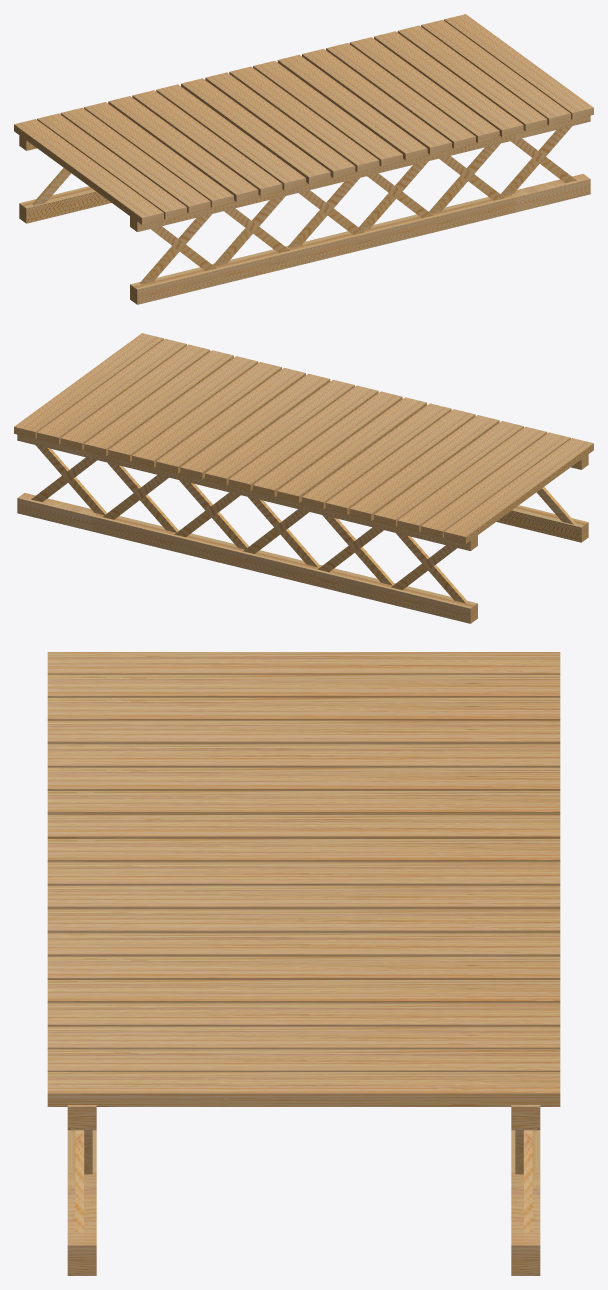
File: Platform_1.fbx
3 views of the same model, one above another, from view 1: azimuth 30°, elevation 25°; view 2: azimuth 150°, elevation 25°; view 3: azimuth 270°, elevation 25° (orthographic). The views are drawn at different scales.
Parts seen in each view (by area): view 1: Cube.032, Cube.031, Cube.022, Cube.030, Cube.017, Cube.023, Cube.024, Cube.016, Cube.026, Cube.021, Cube.014, Cube.018 (+21 smaller); view 2: Cube.032, Cube.031, Cube.022, Cube.030, Cube.017, Cube.023, Cube.024, Cube.016, Cube.026, Cube.021, Cube.014, Cube.018 (+21 smaller); view 3: Cube.012, Cube.017, Cube.020, Cube.025, Cube.014, Cube.016, Cube.021, Cube.022, Cube.024, Cube.027, Cube.018, Cube.019 (+11 smaller).
Part boxes in pixels (bbox=[...]): Cube.032: bbox=[19, 174, 590, 304]; Cube.031: bbox=[14, 119, 163, 224]; Cube.022: bbox=[181, 78, 330, 184]; Cube.030: bbox=[19, 115, 590, 231]; Cube.017: bbox=[277, 54, 427, 160]; Cube.023: bbox=[205, 72, 355, 178]; Cube.024: bbox=[108, 96, 258, 201]; Cube.016: bbox=[302, 48, 451, 154]; Cube.026: bbox=[132, 90, 282, 195]; Cube.021: bbox=[229, 66, 379, 172]; Cube.014: bbox=[374, 31, 523, 136]; Cube.018: bbox=[326, 43, 475, 148]; Cube.032: bbox=[17, 493, 588, 623]; Cube.031: bbox=[444, 438, 593, 543]; Cube.022: bbox=[277, 397, 426, 503]; Cube.030: bbox=[17, 434, 588, 550]; Cube.017: bbox=[180, 373, 330, 479]; Cube.023: bbox=[252, 391, 402, 497]; Cube.024: bbox=[349, 415, 499, 520]; Cube.016: bbox=[156, 367, 305, 473]; Cube.026: bbox=[325, 409, 475, 514]; Cube.021: bbox=[228, 385, 378, 491]; Cube.014: bbox=[84, 350, 233, 455]; Cube.018: bbox=[132, 362, 281, 467]; Cube.012: bbox=[47, 1072, 560, 1106]; Cube.017: bbox=[47, 909, 560, 933]; Cube.020: bbox=[47, 885, 560, 909]; Cube.025: bbox=[47, 720, 560, 744]; Cube.014: bbox=[47, 1003, 560, 1026]; Cube.016: bbox=[47, 933, 560, 956]; Cube.021: bbox=[47, 862, 560, 885]; Cube.022: bbox=[47, 815, 560, 838]; Cube.024: bbox=[47, 744, 560, 767]; Cube.027: bbox=[47, 791, 560, 814]; Cube.018: bbox=[47, 956, 560, 979]; Cube.019: bbox=[47, 980, 560, 1003].
Size of the model in its own units: 899 by 172 by 440.
